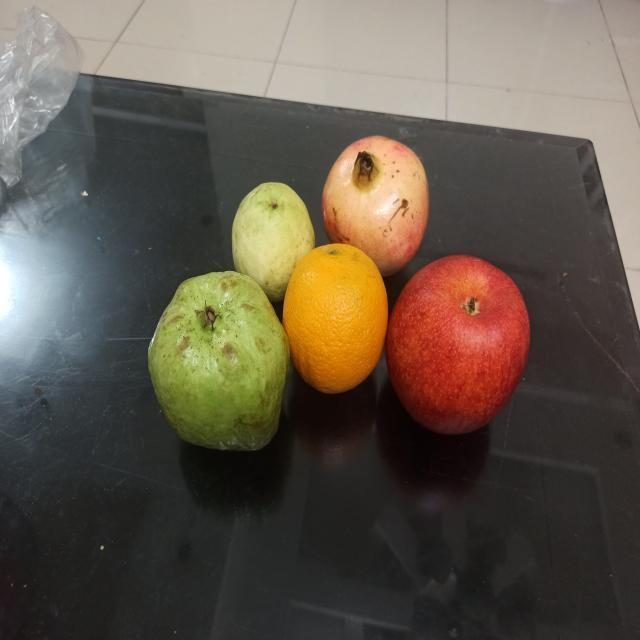apple: (386, 253, 530, 434)
